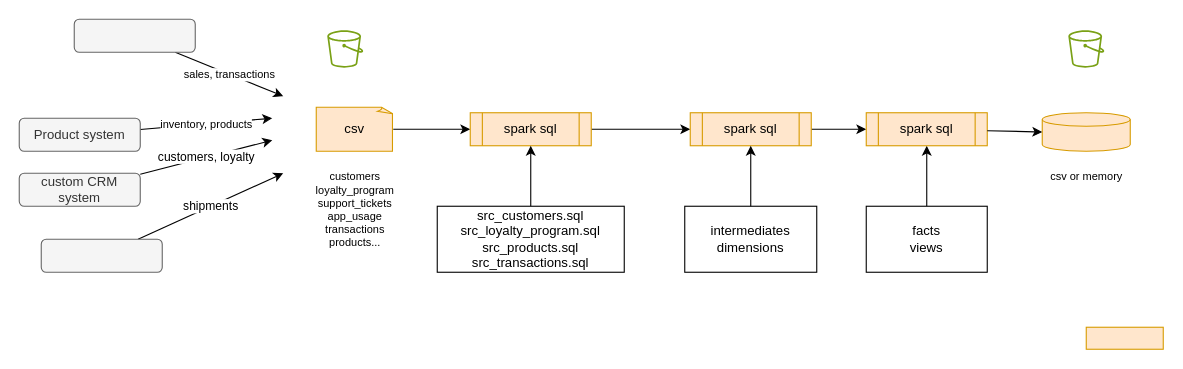
The diagram is 1183 pixels wide and 369 high, and some of its shapes have lost their labels. Each missing label, with the centre of its shape:
"c360 analytics" belongs at (x=1085, y=131).
"in scope" belongs at (x=1124, y=337).
"logistics system" belongs at (x=101, y=255).
"transaction system" belongs at (x=134, y=35).
